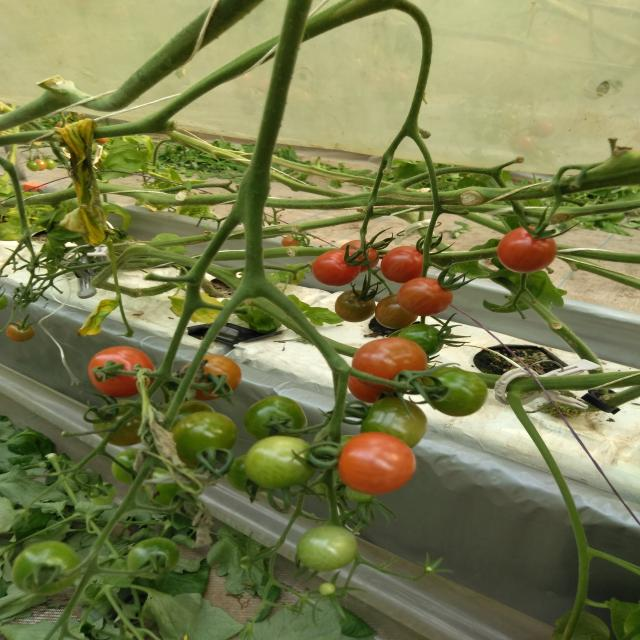c-half-riped: (351, 336, 428, 394), (180, 354, 242, 400), (397, 277, 452, 317), (374, 293, 418, 329), (339, 239, 379, 274), (334, 288, 374, 322), (4, 322, 34, 342)
c-riped: (337, 432, 416, 496), (88, 346, 156, 399), (496, 226, 557, 274), (312, 249, 361, 287), (379, 245, 424, 284), (347, 376, 403, 404)
c-unriped: (10, 540, 81, 596), (244, 436, 316, 490), (169, 412, 237, 467), (418, 366, 488, 418), (359, 397, 428, 449), (242, 396, 308, 442), (296, 525, 359, 572), (93, 400, 156, 446), (124, 536, 181, 580), (228, 453, 268, 493), (397, 323, 443, 357), (112, 448, 149, 484), (88, 482, 115, 506), (346, 485, 376, 503), (319, 582, 337, 597)
